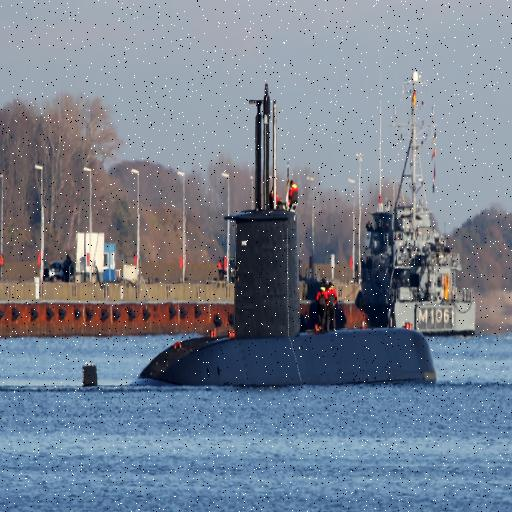submarine: (83, 87, 441, 390)
